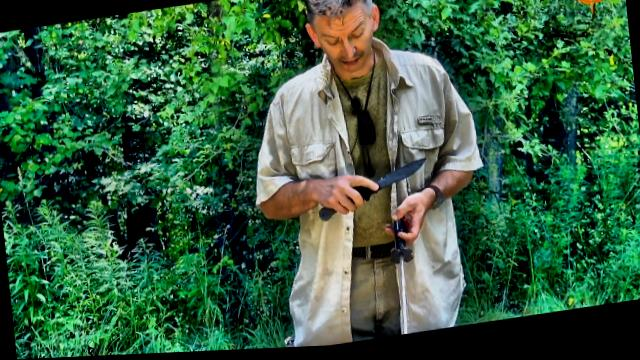knife: (311, 157, 435, 226)
